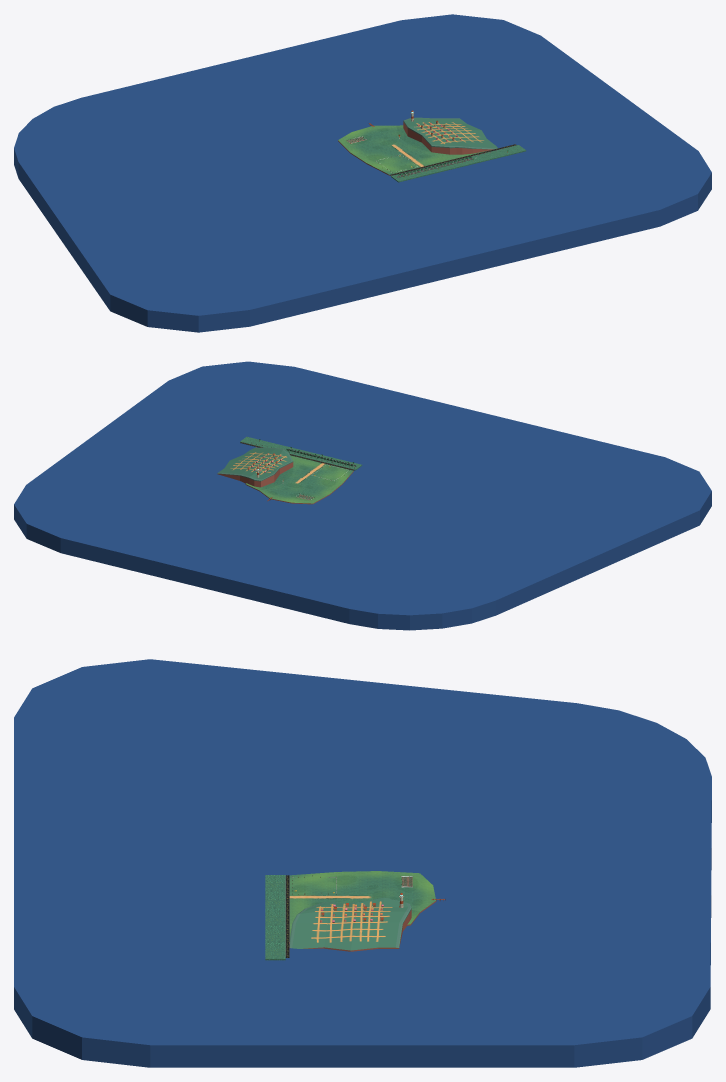
File: map_starting_level_improved.fbx
The picture shows the model from 3 angles, top to bottom: view 1: azimuth 30°, elevation 25°; view 2: azimuth 150°, elevation 25°; view 3: azimuth 270°, elevation 25°; orthographic projection. The views are drawn at different scales.
Visible parts, largest first — view 1: water, ground, cliff, Jungle_ground; view 2: water, ground, cliff, Jungle_ground; view 3: water, cliff, ground, Jungle_ground.
Boxes of the visible parts, x1,y1,x2,y2 form: water: (14,14,711,332); ground: (338,125,486,175); cliff: (403,117,497,154); Jungle_ground: (391,145,526,182); water: (14,361,711,630); ground: (245,455,353,504); cliff: (217,447,293,487); Jungle_ground: (240,436,362,470); water: (14,659,711,1067); cliff: (289,897,411,951); ground: (289,871,436,939); Jungle_ground: (265,875,285,960).
Bounding box in the file's own units: 224527 × 13198 × 171566.
